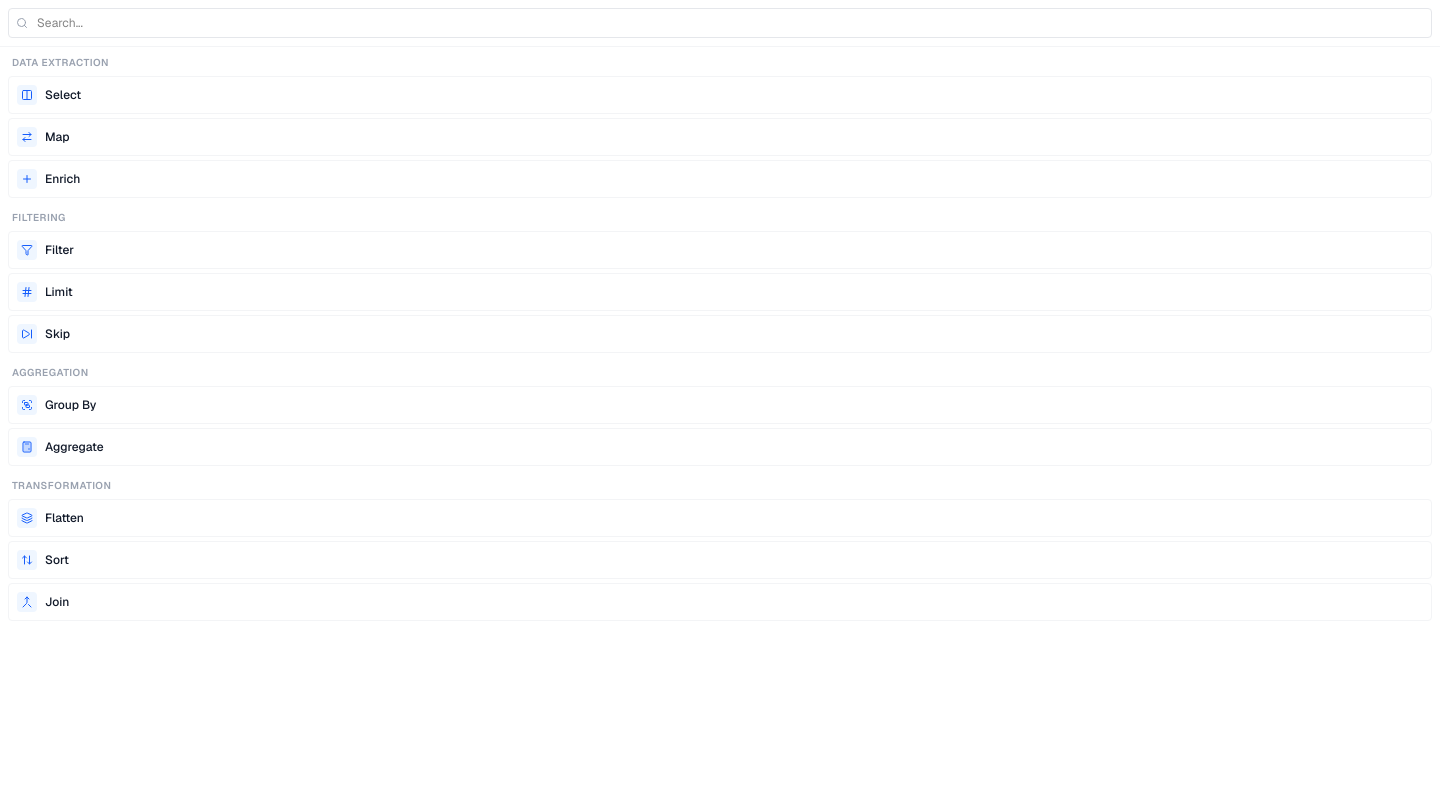
Test: OperationPalette › Search › should filter operations by search query
Step 1. Type "filter" into the field named "search operations" → (720, 23), box x1=8 y1=8 x2=1432 y2=38
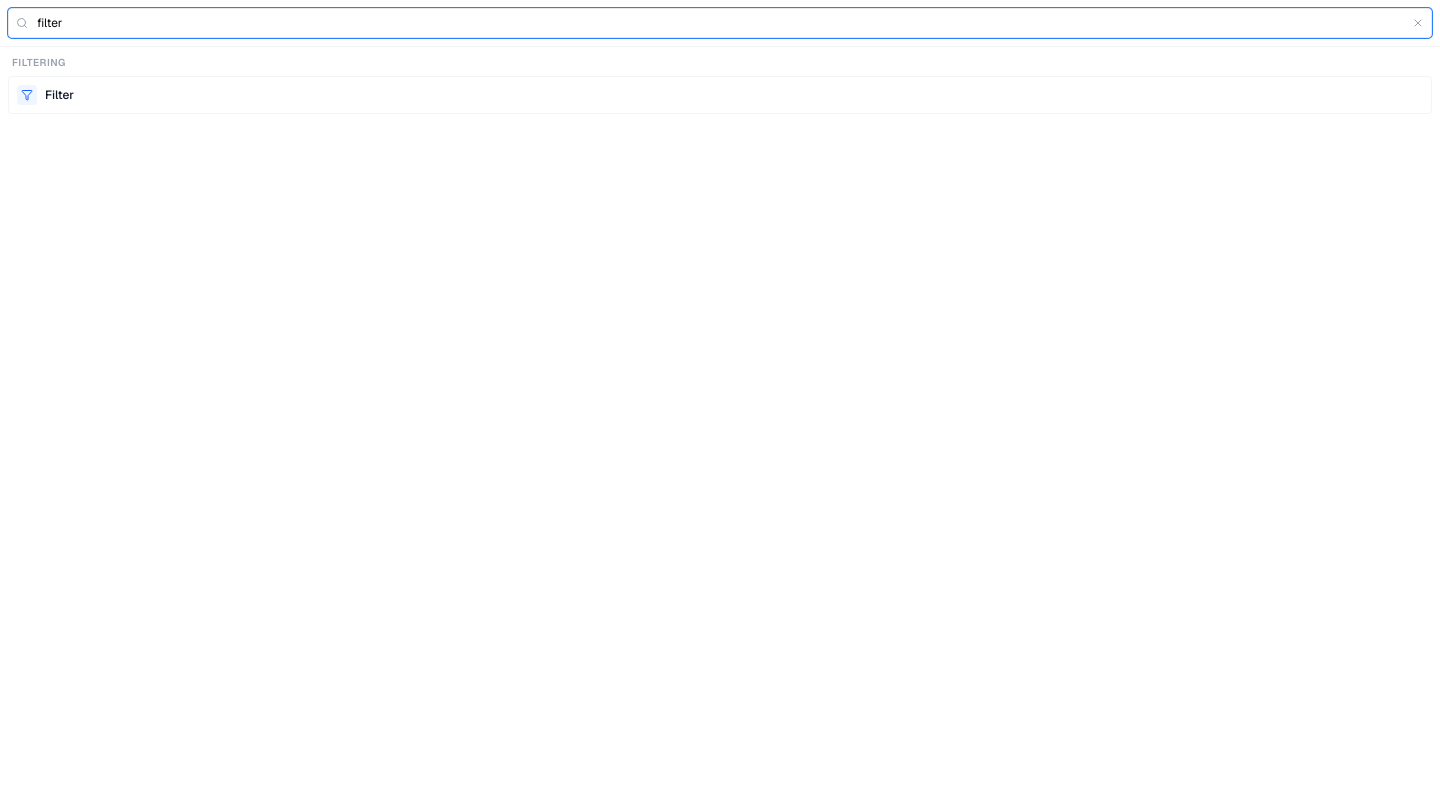
Expected: the text "Filter" is shown, x1=45 y1=87 x2=74 y2=103
Now the button with test id "operation-card-select" is gone
